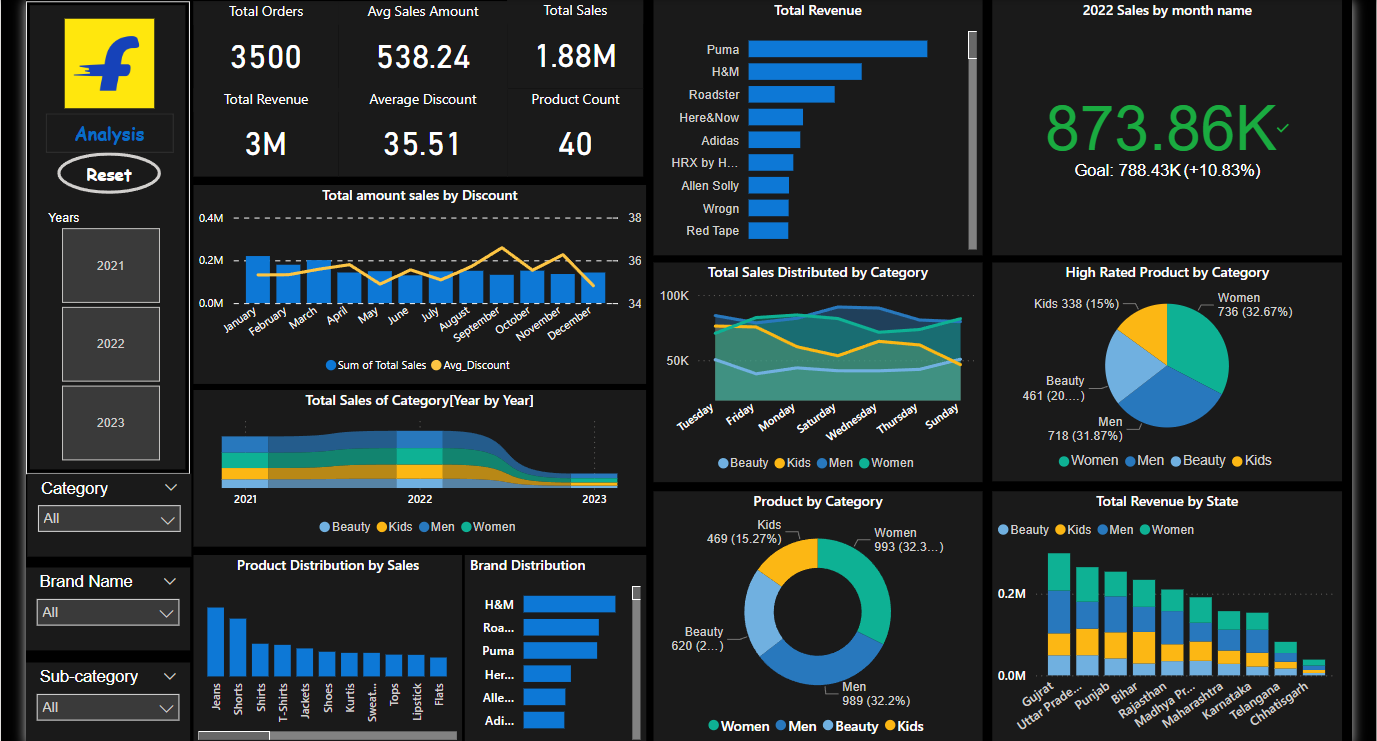

What the dashboard file says about the page in this screenshot:
{"tool":"powerbi","page":{"name":"Page 1","canvas":[1280,720],"ordinal":0},"visuals":[{"type":"actionButton","box":[0,1.2,158,456],"z":0},{"type":"image","box":[32.6,13.3,96.5,96.5],"z":1000},{"type":"actionButton","box":[19.3,109.8,123.1,37.4],"z":2000},{"type":"actionButton","box":[185.8,0,158,457.2],"z":3000},{"type":"slicer","fields":{"Values":["date_table.Years"]},"box":[8.4,197.9,144.8,253.4],"z":4000},{"type":"slicer","fields":{"Values":["dim_products.Category"]},"box":[1.2,457.2,158,79.6],"z":5000},{"type":"slicer","fields":{"Values":["dim_products.Brand Name"]},"box":[0,547.7,158,79.6],"z":6000},{"type":"slicer","fields":{"Values":["dim_products.Sub-category"]},"box":[0,639.4,158,79.6],"z":7000},{"type":"actionButton","box":[30.2,147.2,100.1,39.8],"z":8000},{"type":"card","title":"Total Orders","fields":{"Values":["fact_orders.Total Orders"]},"box":[161.7,1.2,139.9,84.5],"z":9000},{"type":"card","title":"Total Revenue","fields":{"Values":["fact_orders.Total Revenue"]},"box":[161.7,85.7,139.9,84.5],"z":10000},{"type":"card","title":"Avg Sales Amount","fields":{"Values":["fact_orders.Avg_sales_amount"]},"box":[301.6,1.2,162.9,84.5],"z":11000},{"type":"card","title":"Average Discount","fields":{"Values":["fact_orders.Avg_Discount"]},"box":[301.6,85.7,162.9,84.5],"z":12000},{"type":"card","title":"Total Sales","fields":{"Values":["Sum(fact_orders.Total Sales)"]},"box":[464.5,0,131.5,85.7],"z":13000},{"type":"card","title":"Product Count","fields":{"Values":["fact_orders.Product_count"]},"box":[464.5,85.7,131.5,84.5],"z":14000},{"type":"lineStackedColumnComboChart","title":"Total amount sales by Discount","fields":{"Y":["Sum(fact_orders.Total Sales)"],"Y2":["fact_orders.Avg_Discount"],"Category":["date_table.Month_name"]},"box":[161.7,178.6,436.7,191.8],"z":15000},{"type":"ribbonChart","title":"Total Sales of Category[Year by Year]","fields":{"Category":["date_table.Date.Variation.Date Hierarchy.Year","date_table.Date.Variation.Date Hierarchy.Quarter","date_table.Date.Variation.Date Hierarchy.Month","date_table.Date.Variation.Date Hierarchy.Day"],"Y":["Sum(fact_orders.Total Sales)"],"Series":["dim_products.Category"]},"box":[161.7,376.4,436.7,150.8],"z":16000},{"type":"columnChart","title":"Product Distribution by Sales","fields":{"Category":["dim_products.Product Name"],"Y":["CountNonNull(dim_products.Product Name)"]},"box":[161.7,535.7,259.4,183.4],"z":17000},{"type":"barChart","title":"Brand Distribution","fields":{"Category":["dim_products.Brand Name"],"Y":["CountNonNull(dim_products.Brand Name)"]},"box":[423.5,535.7,174.9,183.4],"z":18000},{"type":"barChart","title":"Total Revenue","fields":{"Category":["dim_products.Brand Name"],"Y":["Sum(fact_orders.Total Sales)"]},"box":[605.6,0,317.3,246.1],"z":19000},{"type":"areaChart","title":"Total Sales Distributed by Category","fields":{"Category":["date_table.Days_of_week"],"Y":["Sum(fact_orders.Total Sales)"],"Series":["dim_products.Category"]},"box":[605.6,253.4,317.3,212.3],"z":20000},{"type":"donutChart","title":"Product by Category","fields":{"Category":["dim_products.Category"],"Y":["CountNonNull(dim_products.Product Name)"]},"box":[605.6,474.1,317.3,244.9],"z":21000},{"type":"kpi","title":"2022 Sales by month name","fields":{"TrendLine":["date_table.Month_name"],"Goal":["fact_orders.Sales_2021"],"Indicator":["fact_orders.Sales_2022"]},"box":[932.6,0,337.8,246.1],"z":22000},{"type":"pieChart","title":"High Rated Product by Category","fields":{"Y":["dim_products.High_Rated_Product"],"Category":["dim_products.Category"]},"box":[932.6,253.4,337.8,211.1],"z":23000},{"type":"columnChart","title":"Total Revenue by State","fields":{"Y":["Sum(fact_orders.Total Sales)"],"Category":["dim_customers.State"],"Series":["dim_products.Category"]},"box":[932.6,474.1,337.8,244.9],"z":24000}]}

Visuals, with their boxes on the page's 1280x720 design canvas (x1, y1, x2, y2). These are canvas units, not pixel positions in the 1377x741 screenshot, which may show the page scaled, cropped or inside an application window:
actionButton: <region>0, 1, 158, 457</region>
image: <region>33, 13, 129, 110</region>
actionButton: <region>19, 110, 142, 147</region>
actionButton: <region>186, 0, 344, 457</region>
slicer - date_table.Years: <region>8, 198, 153, 451</region>
slicer - dim_products.Category: <region>1, 457, 159, 537</region>
slicer - dim_products.Brand Name: <region>0, 548, 158, 627</region>
slicer - dim_products.Sub-category: <region>0, 639, 158, 719</region>
actionButton: <region>30, 147, 130, 187</region>
"Total Orders" card: <region>162, 1, 302, 86</region>
"Total Revenue" card: <region>162, 86, 302, 170</region>
"Avg Sales Amount" card: <region>302, 1, 464, 86</region>
"Average Discount" card: <region>302, 86, 464, 170</region>
"Total Sales" card: <region>464, 0, 596, 86</region>
"Product Count" card: <region>464, 86, 596, 170</region>
"Total amount sales by Discount" lineStackedColumnComboChart: <region>162, 179, 598, 370</region>
"Total Sales of Category[Year by Year]" ribbonChart: <region>162, 376, 598, 527</region>
"Product Distribution by Sales" columnChart: <region>162, 536, 421, 719</region>
"Brand Distribution" barChart: <region>424, 536, 598, 719</region>
"Total Revenue" barChart: <region>606, 0, 923, 246</region>
"Total Sales Distributed by Category" areaChart: <region>606, 253, 923, 466</region>
"Product by Category" donutChart: <region>606, 474, 923, 719</region>
"2022 Sales by month name" kpi: <region>933, 0, 1270, 246</region>
"High Rated Product by Category" pieChart: <region>933, 253, 1270, 464</region>
"Total Revenue by State" columnChart: <region>933, 474, 1270, 719</region>
